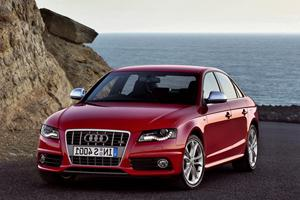Car: (30, 53, 272, 195)
